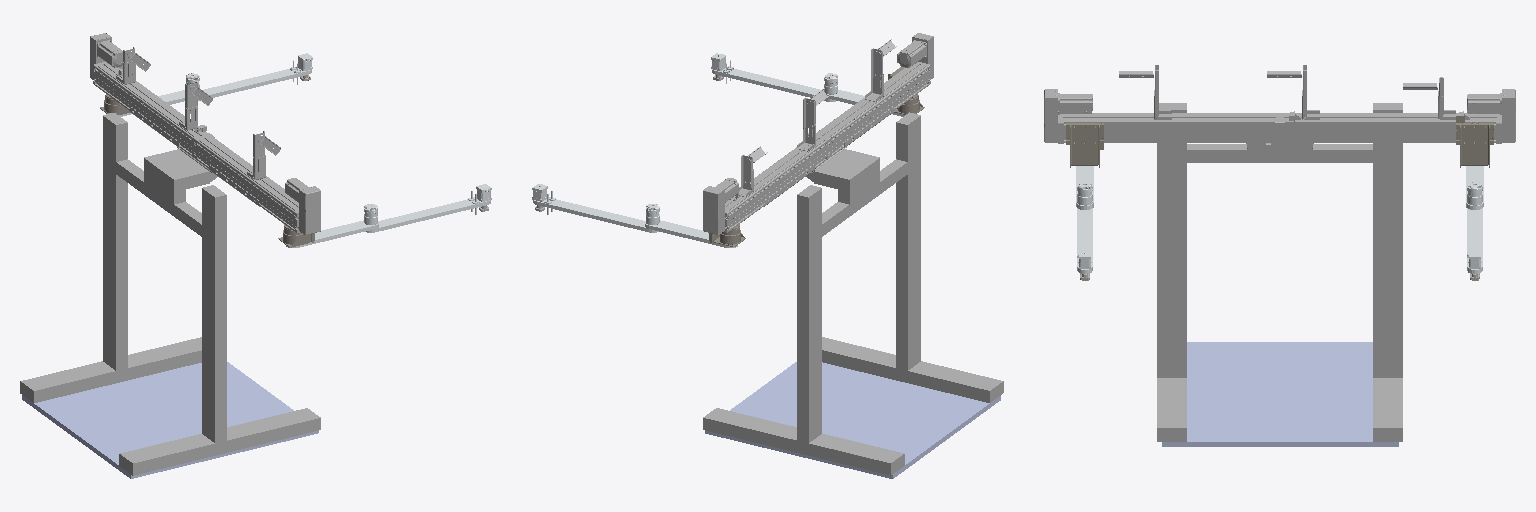
URDF robot description (myarm):
<?xml version="1.0" encoding="utf-8"?>
<!-- This URDF was automatically created by SolidWorks to URDF Exporter! Originally created by [author] ([email redacted]) 
     Commit Version: 1.5.1-0-g916b5db  Build Version: 1.5.7152.31018
     For more information, please see http://wiki.ros.org/sw_urdf_exporter -->
<robot
  name="myarm">
<!-- ///////////////////////////////////////   底下虚假link   ////////////////////////////////////////// -->
  <joint name="dummy_joint" type="fixed">
     <parent link="dummy"/>
     <child link="bottom_link"/>
   </joint>
  <link name="dummy">
   </link>
<!-- ///////////////////////////////////////  底下虚假link   ////////////////////////////////////////// -->
  <link
    name="bottom_link">
    <inertial>
      <origin
        xyz="-1.11022302462516E-16 1.11022302462516E-16 -0.01"
        rpy="0 0 0" />
      <mass
        value="12.8" />
      <inertia
        ixx="0.683093333333333"
        ixy="-1.73897933090454E-16"
        ixz="2.16840434497101E-18"
        iyy="0.683093333333333"
        iyz="0"
        izz="1.36533333333333" />
    </inertial>
    <visual>
      <origin
        xyz="0 0 0"
        rpy="0 0 0" />
      <geometry>
        <mesh
          filename="package://myarm/meshes/bottom_link.STL" />
      </geometry>
      <material
        name="">
        <color
          rgba="0.792156862745098 0.819607843137255 0.933333333333333 1" />
      </material>
    </visual>
    <collision>
      <origin
        xyz="0 0 0"
        rpy="0 0 0" />
      <geometry>
        <mesh
          filename="package://myarm/meshes/bottom_link.STL" />
      </geometry>
    </collision>
  </link>
  <link
    name="base_link">
    <inertial>
      <origin
        xyz="-0.0763832628214193 0.283480691527585 -0.00800744008312293"
        rpy="0 0 0" />
      <mass
        value="40.9303662914242" />
      <inertia
        ixx="3.33440048575448"
        ixy="0.000339597501545573"
        ixz="5.08841770510426E-06"
        iyy="3.63126732059579"
        iyz="0.0736938663837896"
        izz="6.08467360827058" />
    </inertial>
    <visual>
      <origin
        xyz="0 0 0"
        rpy="0 0 0" />
      <geometry>
        <mesh
          filename="package://myarm/meshes/base_link.STL" />
      </geometry>
      <material
        name="">
        <color
          rgba="0.752941176470588 0.752941176470588 0.752941176470588 1" />
      </material>
    </visual>
    <collision>
      <origin
        xyz="0 0 0"
        rpy="0 0 0" />
      <geometry>
        <mesh
          filename="package://myarm/meshes/base_link.STL" />
      </geometry>
    </collision>
  </link>
  <joint
    name="base_joint"
    type="fixed">
    <origin
      xyz="0.05 -0.00090568 1"
      rpy="-1.5708 0 1.5708" />
    <parent
      link="bottom_link" />
    <child
      link="base_link" />
    <axis
      xyz="0 0 0" />
  </joint>
  <link
    name="left_link1">
    <inertial>
      <origin
        xyz="-0.00182134950936802 0.0575478666317577 0.00865680928273005"
        rpy="0 0 0" />
      <mass
        value="1.71263023288191" />
      <inertia
        ixx="0.00219259765470546"
        ixy="-7.25048722030857E-06"
        ixz="-5.58102312831E-07"
        iyy="0.00195110942317912"
        iyz="-0.000326326838956514"
        izz="0.00297851317823756" />
    </inertial>
    <visual>
      <origin
        xyz="0 0 0"
        rpy="0 0 0" />
      <geometry>
        <mesh
          filename="package://myarm/meshes/left_link1.STL" />
      </geometry>
      <material
        name="">
        <color
          rgba="0.647058823529412 0.619607843137255 0.588235294117647 1" />
      </material>
    </visual>
    <collision>
      <origin
        xyz="0 0 0"
        rpy="0 0 0" />
      <geometry>
        <mesh
          filename="package://myarm/meshes/left_link1.STL" />
      </geometry>
    </collision>
  </link>
  <joint
    name="left_joint1"
    type="prismatic">
    <origin
      xyz="-0.658 -0.045 -0.1235"
      rpy="0 0 0" />
    <parent
      link="base_link" />
    <child
      link="left_link1" />
    <axis
      xyz="1 0 0" />
    <limit
      lower="0"
      upper="0.53"
      effort="100"
      velocity="1" />
  </joint>
  <link
    name="left_link2">
    <inertial>
      <origin
        xyz="-1.32474718958497E-06 0.0426977487817409 -0.183090096985044"
        rpy="0 0 0" />
      <mass
        value="0.623661110665365" />
      <inertia
        ixx="0.00704156488110997"
        ixy="2.57875426091467E-10"
        ixz="-3.06445112508457E-07"
        iyy="0.00724513673034353"
        iyz="-4.79483042962738E-08"
        izz="0.000228462251703274" />
    </inertial>
    <visual>
      <origin
        xyz="0 0 0"
        rpy="0 0 0" />
      <geometry>
        <mesh
          filename="package://myarm/meshes/left_link2.STL" />
      </geometry>
      <material
        name="">
        <color
          rgba="0.898039215686275 0.917647058823529 0.929411764705882 1" />
      </material>
    </visual>
    <collision>
      <origin
        xyz="0 0 0"
        rpy="0 0 0" />
      <geometry>
        <mesh
          filename="package://myarm/meshes/left_link2.STL" />
      </geometry>
    </collision>
  </link>
  <joint
    name="left_joint2"
    type="revolute">
    <origin
      xyz="0 0.0794 0.03"
      rpy="0 0 0" />
    <parent
      link="left_link1" />
    <child
      link="left_link2" />
    <axis
      xyz="0 -1 0" />
    <limit
      lower="-3.14"
      upper="1.57"
      effort="100"
      velocity="1" />
  </joint>
  <link
    name="left_link3">
    <inertial>
      <origin
        xyz="-6.47993045946316E-06 0.0850794531295564 -0.263360069947424"
        rpy="0 0 0" />
      <mass
        value="1.24583100015004" />
      <inertia
        ixx="0.0244431553530285"
        ixy="-1.92043539678285E-07"
        ixz="1.27617677248573E-11"
        iyy="0.024643272565259"
        iyz="-3.75744119960419E-06"
        izz="0.000325323814630849" />
    </inertial>
    <visual>
      <origin
        xyz="0 0 0"
        rpy="0 0 0" />
      <geometry>
        <mesh
          filename="package://myarm/meshes/left_link3.STL" />
      </geometry>
      <material
        name="">
        <color
          rgba="0.898039215686275 0.917647058823529 0.929411764705882 1" />
      </material>
    </visual>
    <collision>
      <origin
        xyz="0 0 0"
        rpy="0 0 0" />
      <geometry>
        <mesh
          filename="package://myarm/meshes/left_link3.STL" />
      </geometry>
    </collision>
  </link>
  <joint
    name="left_joint3"
    type="revolute">
    <origin
      xyz="0 -0.0237 -0.33"
      rpy="0 0 0" />
    <parent
      link="left_link2" />
    <child
      link="left_link3" />
    <axis
      xyz="0 -1 0" />
    <limit
      lower="-3.14"
      upper="3.14"
      effort="100"
      velocity="1" />
  </joint>
  <link
    name="left_graspping">
    <inertial>
      <origin
        xyz="-4.45555785436036E-06 0.00152038356632933 5.38015670414893E-06"
        rpy="0 0 0" />
      <mass
        value="0.0731346714304329" />
      <inertia
        ixx="6.79678535670542E-06"
        ixy="-1.38224694213063E-09"
        ixz="-3.86435571481031E-09"
        iyy="1.02098798804514E-05"
        iyz="1.66908601417815E-09"
        izz="6.79825136167464E-06" />
    </inertial>
    <visual>
      <origin
        xyz="0 0 0"
        rpy="0 0 0" />
      <geometry>
        <mesh
          filename="package://myarm/meshes/left_graspping.STL" />
      </geometry>
      <material
        name="">
        <color
          rgba="0.776470588235294 0.756862745098039 0.737254901960784 1" />
      </material>
    </visual>
    <collision>
      <origin
        xyz="0 0 0"
        rpy="0 0 0" />
      <geometry>
        <mesh
          filename="package://myarm/meshes/left_graspping.STL" />
      </geometry>
    </collision>
  </link>
  <joint
    name="left_graspping_joint"
    type="fixed">
    <origin
      xyz="0 0.11487 -0.48"
      rpy="0 0 0" />
    <parent
      link="left_link3" />
    <child
      link="left_graspping" />
    <axis
      xyz="0 0 0" />
  </joint>
  <link
    name="right_link1">
    <inertial>
      <origin
        xyz="-0.00221843839770375 0.0666838970012278 0.00894112760500942"
        rpy="0 0 0" />
      <mass
        value="1.47458375683757" />
      <inertia
        ixx="0.0020734234297418"
        ixy="-2.68529983601452E-06"
        ixz="2.22307797722385E-07"
        iyy="0.00160474638346536"
        iyz="-0.000325460276467151"
        izz="0.00252165133575632" />
    </inertial>
    <visual>
      <origin
        xyz="0 0 0"
        rpy="0 0 0" />
      <geometry>
        <mesh
          filename="package://myarm/meshes/right_link1.STL" />
      </geometry>
      <material
        name="">
        <color
          rgba="0.647058823529412 0.619607843137255 0.588235294117647 1" />
      </material>
    </visual>
    <collision>
      <origin
        xyz="0 0 0"
        rpy="0 0 0" />
      <geometry>
        <mesh
          filename="package://myarm/meshes/right_link1.STL" />
      </geometry>
    </collision>
  </link>
  <joint
    name="right_joint1"
    type="prismatic">
    <origin
      xyz="0.658 -0.045 -0.1212"
      rpy="0 0 0" />
    <parent
      link="base_link" />
    <child
      link="right_link1" />
    <axis
      xyz="-1 0 0" />
    <limit
      lower="0"
      upper="0.53"
      effort="100"
      velocity="1" />
  </joint>
  <link
    name="right_link2">
    <inertial>
      <origin
        xyz="-1.60472229104869E-06 0.0429977488830067 -0.183090471898175"
        rpy="0 0 0" />
      <mass
        value="0.623661103614245" />
      <inertia
        ixx="0.00704180234689282"
        ixy="-2.705400871229E-09"
        ixz="-1.15348985434158E-07"
        iyy="0.00724513670616404"
        iyz="-5.00545816993314E-08"
        izz="0.000228224761358886" />
    </inertial>
    <visual>
      <origin
        xyz="0 0 0"
        rpy="0 0 0" />
      <geometry>
        <mesh
          filename="package://myarm/meshes/right_link2.STL" />
      </geometry>
      <material
        name="">
        <color
          rgba="0.898039215686275 0.917647058823529 0.929411764705882 1" />
      </material>
    </visual>
    <collision>
      <origin
        xyz="0 0 0"
        rpy="0 0 0" />
      <geometry>
        <mesh
          filename="package://myarm/meshes/right_link2.STL" />
      </geometry>
    </collision>
  </link>
  <joint
    name="right_joint2"
    type="revolute">
    <origin
      xyz="0 0.0791 0.0277"
      rpy="0 0 0" />
    <parent
      link="right_link1" />
    <child
      link="right_link2" />
    <axis
      xyz="0 -1 0" />
    <limit
      lower="-1.57"
      upper="3.14"
      effort="100"
      velocity="1" />
  </joint>
  <link
    name="right_link3">
    <inertial>
      <origin
        xyz="-7.6379593001441E-06 0.0850794531295528 -0.263359748018677"
        rpy="0 0 0" />
      <mass
        value="1.24583100015004" />
      <inertia
        ixx="0.0244431553531162"
        ixy="-1.9195083133372E-07"
        ixz="-1.18319083559158E-11"
        iyy="0.024643272565259"
        iyz="-3.75778577066298E-06"
        izz="0.00032532381454319" />
    </inertial>
    <visual>
      <origin
        xyz="0 0 0"
        rpy="0 0 0" />
      <geometry>
        <mesh
          filename="package://myarm/meshes/right_link3.STL" />
      </geometry>
      <material
        name="">
        <color
          rgba="0.898039215686275 0.917647058823529 0.929411764705882 1" />
      </material>
    </visual>
    <collision>
      <origin
        xyz="0 0 0"
        rpy="0 0 0" />
      <geometry>
        <mesh
          filename="package://myarm/meshes/right_link3.STL" />
      </geometry>
    </collision>
  </link>
  <joint
    name="right_joint3"
    type="revolute">
    <origin
      xyz="0 -0.0234 -0.33"
      rpy="0 0 0" />
    <parent
      link="right_link2" />
    <child
      link="right_link3" />
    <axis
      xyz="0 -1 0" />
    <limit
      lower="-3.14"
      upper="3.14"
      effort="100"
      velocity="1" />
  </joint>
  <link
    name="right_graspping">
    <inertial>
      <origin
        xyz="-4.45555783068485E-06 0.00152038356596707 5.38015666640135E-06"
        rpy="0 0 0" />
      <mass
        value="0.0731346714304325" />
      <inertia
        ixx="6.79678535670536E-06"
        ixy="-1.38224694217093E-09"
        ixz="-3.86435571481846E-09"
        iyy="1.02098798804514E-05"
        iyz="1.66908601414472E-09"
        izz="6.7982513616746E-06" />
    </inertial>
    <visual>
      <origin
        xyz="0 0 0"
        rpy="0 0 0" />
      <geometry>
        <mesh
          filename="package://myarm/meshes/right_graspping.STL" />
      </geometry>
      <material
        name="">
        <color
          rgba="0.776470588235294 0.756862745098039 0.737254901960784 1" />
      </material>
    </visual>
    <collision>
      <origin
        xyz="0 0 0"
        rpy="0 0 0" />
      <geometry>
        <mesh
          filename="package://myarm/meshes/right_graspping.STL" />
      </geometry>
    </collision>
  </link>
  <joint
    name="right_graspping_joint"
    type="fixed">
    <origin
      xyz="0 0.11487 -0.48"
      rpy="0 0 0" />
    <parent
      link="right_link3" />
    <child
      link="right_graspping" />
    <axis
      xyz="0 0 0" />
  </joint>
</robot>

--- What the picture shows (computed from the rendered views, not written in the file) ---
3 views of the same robot in one strip: view 1: azimuth 30°, elevation 25°; view 2: azimuth 150°, elevation 25°; view 3: azimuth 270°, elevation 25° (orthographic).
Model myarm with 11 links and 10 joints (4 revolute, 2 prismatic, 4 fixed), rooted at dummy, posed every joint at zero.
Links seen in each view (by area): view 1: base_link, bottom_link, left_link3, right_link3, left_link2; view 2: base_link, bottom_link, right_link3, left_link3, right_link2, left_link2; view 3: base_link, bottom_link, right_link1, left_link1, left_link3, right_link3, left_link2, right_link2.
Link boxes in pixels (bbox=[...]): base_link: bbox=[20, 33, 320, 475]; bottom_link: bbox=[22, 362, 318, 478]; left_link3: bbox=[366, 184, 491, 232]; right_link3: bbox=[198, 53, 312, 100]; left_link2: bbox=[286, 204, 378, 247]; base_link: bbox=[703, 33, 1003, 475]; bottom_link: bbox=[705, 362, 1000, 478]; right_link3: bbox=[532, 184, 658, 232]; left_link3: bbox=[711, 53, 835, 101]; right_link2: bbox=[645, 204, 737, 247]; left_link2: bbox=[824, 73, 904, 116]; base_link: bbox=[1044, 65, 1515, 441]; bottom_link: bbox=[1162, 342, 1398, 446]; right_link1: bbox=[1456, 116, 1493, 167]; left_link1: bbox=[1066, 123, 1103, 167]; left_link3: bbox=[1077, 208, 1092, 274]; right_link3: bbox=[1467, 208, 1482, 274]; left_link2: bbox=[1076, 166, 1093, 209]; right_link2: bbox=[1466, 166, 1483, 209].
Bounding box of the posed robot: 1.38 × 1.59 × 1.29 m (x, y, z).
10 mesh visuals loaded from 10 distinct referenced files (10 binary STL).
